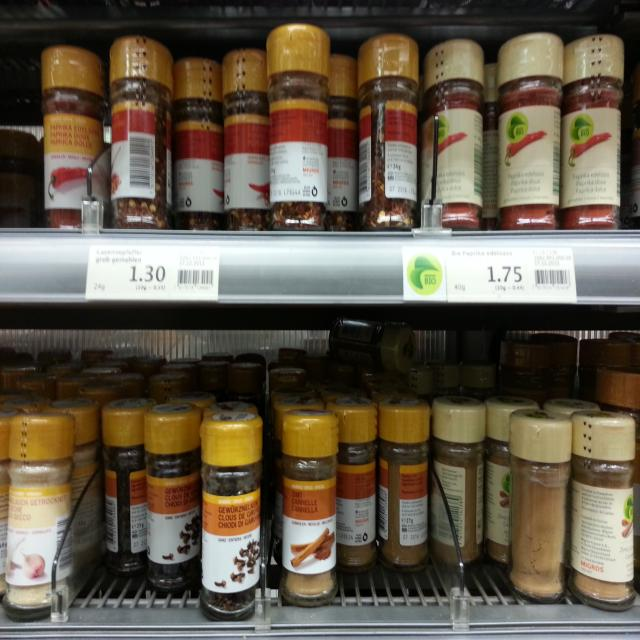Spices: (260, 22, 334, 236), (0, 411, 74, 618), (570, 407, 640, 612), (198, 411, 266, 622), (352, 28, 419, 238), (107, 29, 175, 233), (503, 404, 570, 606), (35, 50, 107, 236), (497, 28, 562, 233), (566, 33, 631, 230), (274, 407, 337, 607), (427, 40, 488, 234), (146, 401, 204, 594), (372, 393, 434, 570), (217, 49, 272, 242), (323, 398, 380, 572), (102, 395, 156, 578), (431, 391, 485, 573), (171, 55, 219, 233)
